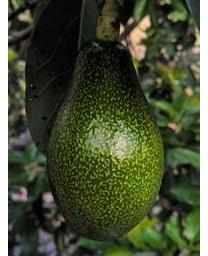avocado: (48, 41, 165, 241)
